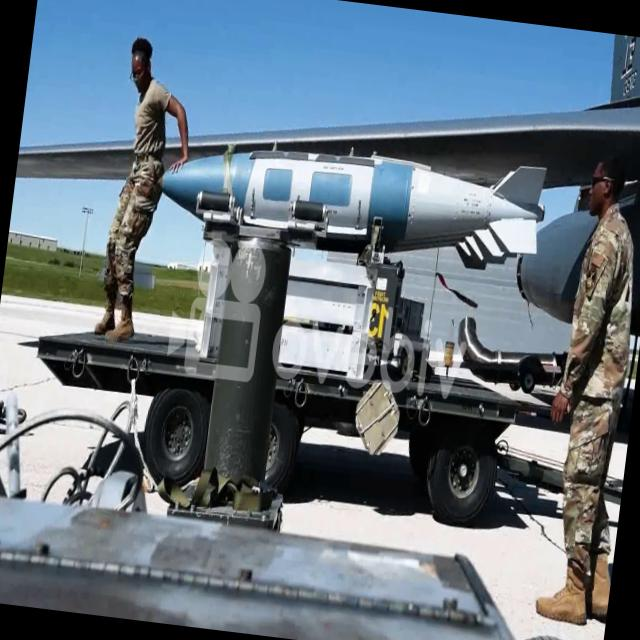rocket: (147, 106, 552, 271)
